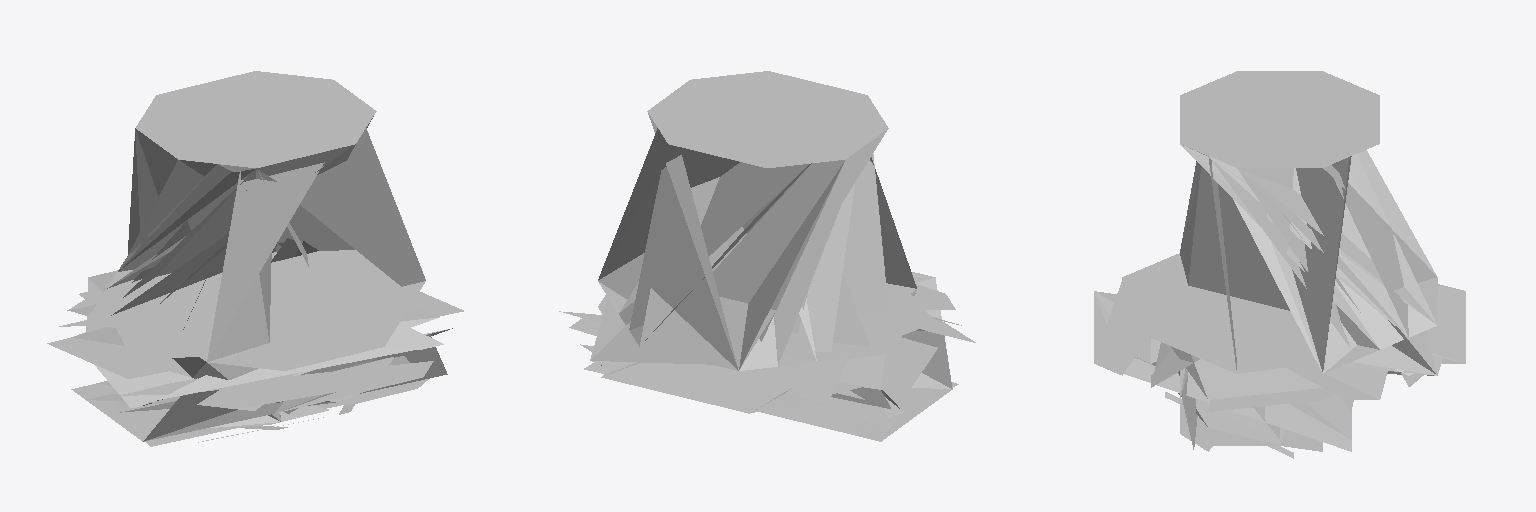
The model's file is 8x tuxedo.obj.
3 renders of one model, left to right at view 1: azimuth 30°, elevation 25°; view 2: azimuth 150°, elevation 25°; view 3: azimuth 270°, elevation 25°, orthographic.
Size of the model in its own units: 56 by 42 by 52.